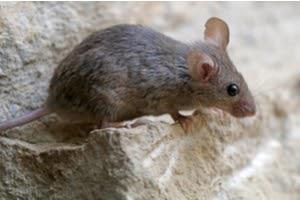rat: (1, 18, 258, 134)
